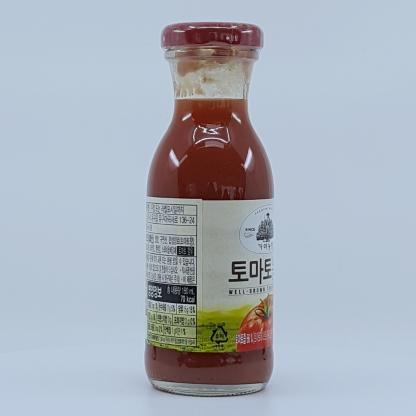-------180ML: (145, 22, 274, 396)
